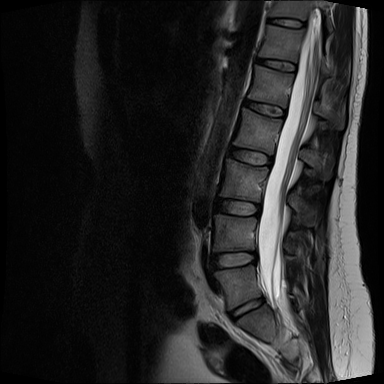Normal IVD: (209, 243, 262, 276), (224, 291, 269, 324), (227, 142, 277, 170), (209, 197, 268, 219), (240, 97, 289, 121), (251, 54, 300, 76), (263, 15, 307, 31)
